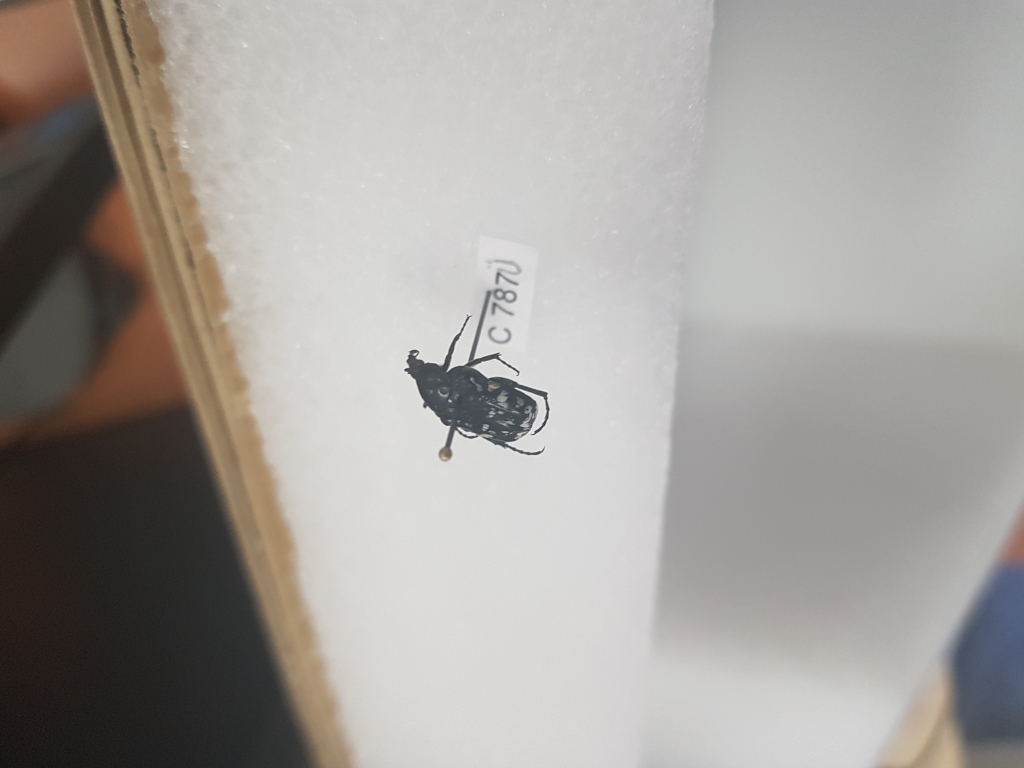Oxythyrea_albopicta: (401, 305, 559, 467)
